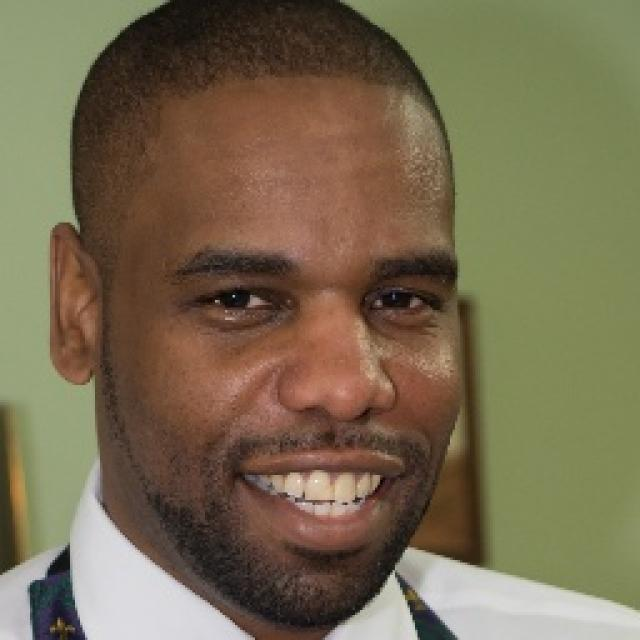earlobe: (46, 221, 96, 385)
